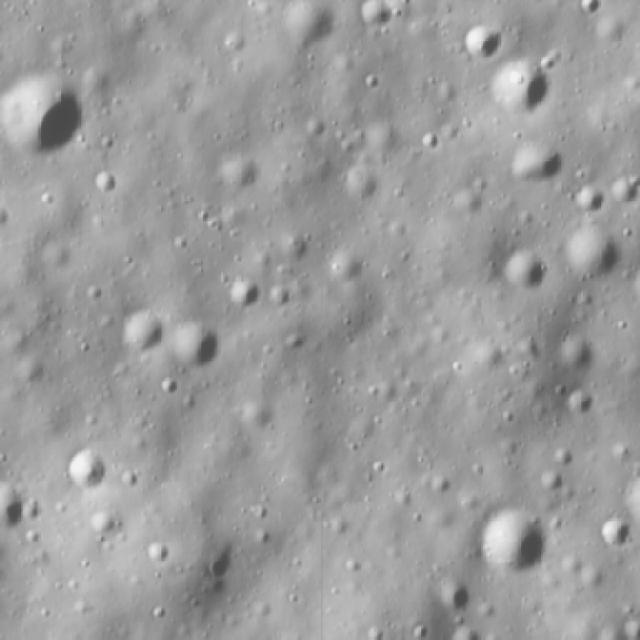crater: (2, 62, 92, 164), (466, 495, 556, 588), (480, 52, 562, 128), (498, 132, 568, 194), (561, 227, 624, 293), (165, 315, 232, 377), (489, 243, 551, 303), (117, 302, 172, 362), (213, 143, 264, 206), (55, 446, 112, 502), (454, 18, 509, 68), (426, 584, 480, 628), (554, 331, 604, 378), (220, 272, 262, 322), (1, 480, 34, 542), (563, 380, 608, 425), (199, 544, 244, 584), (594, 514, 632, 554), (138, 537, 174, 571)
